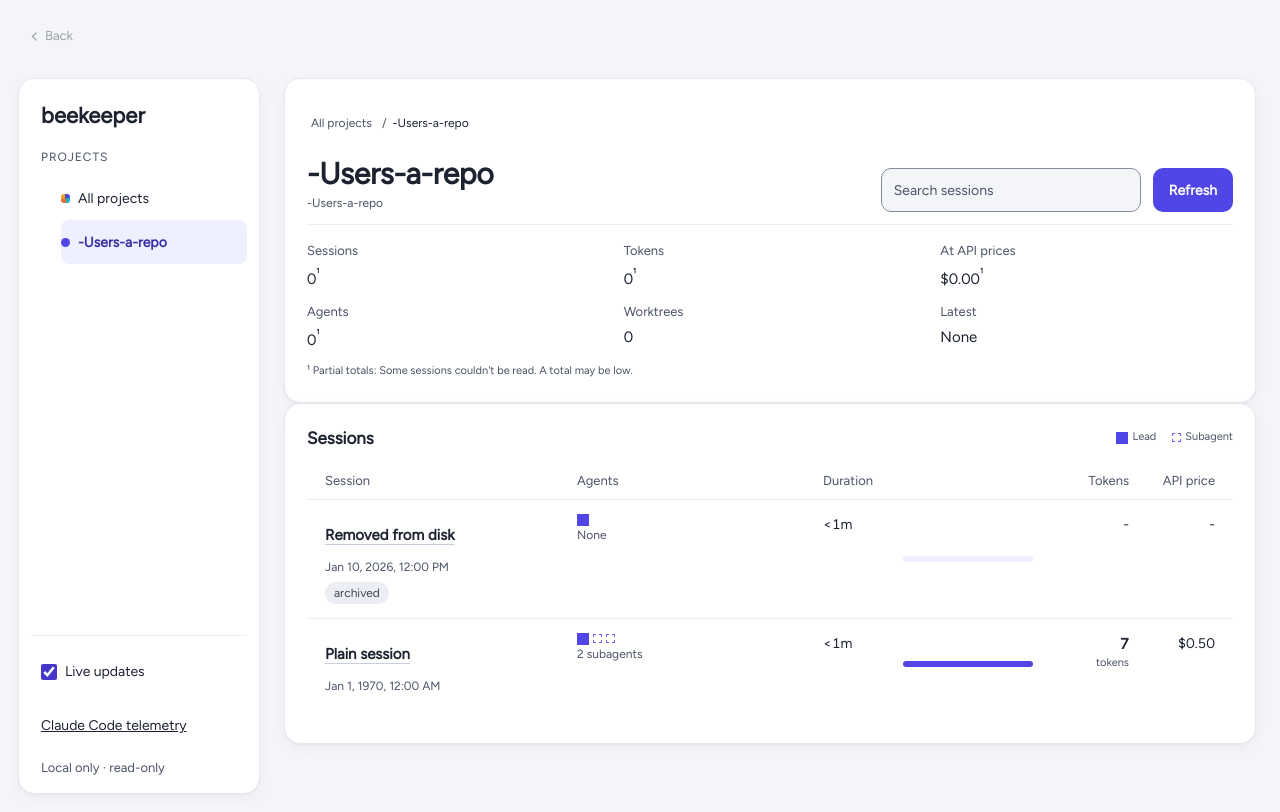
session cards: archived note › finds an archived session by its title in a search
This screenshot has width=1280, height=812.
Type "removed" into the search field labelled "Search sessions".
click(1011, 190); type("removed")  # box [881,168,1141,212]
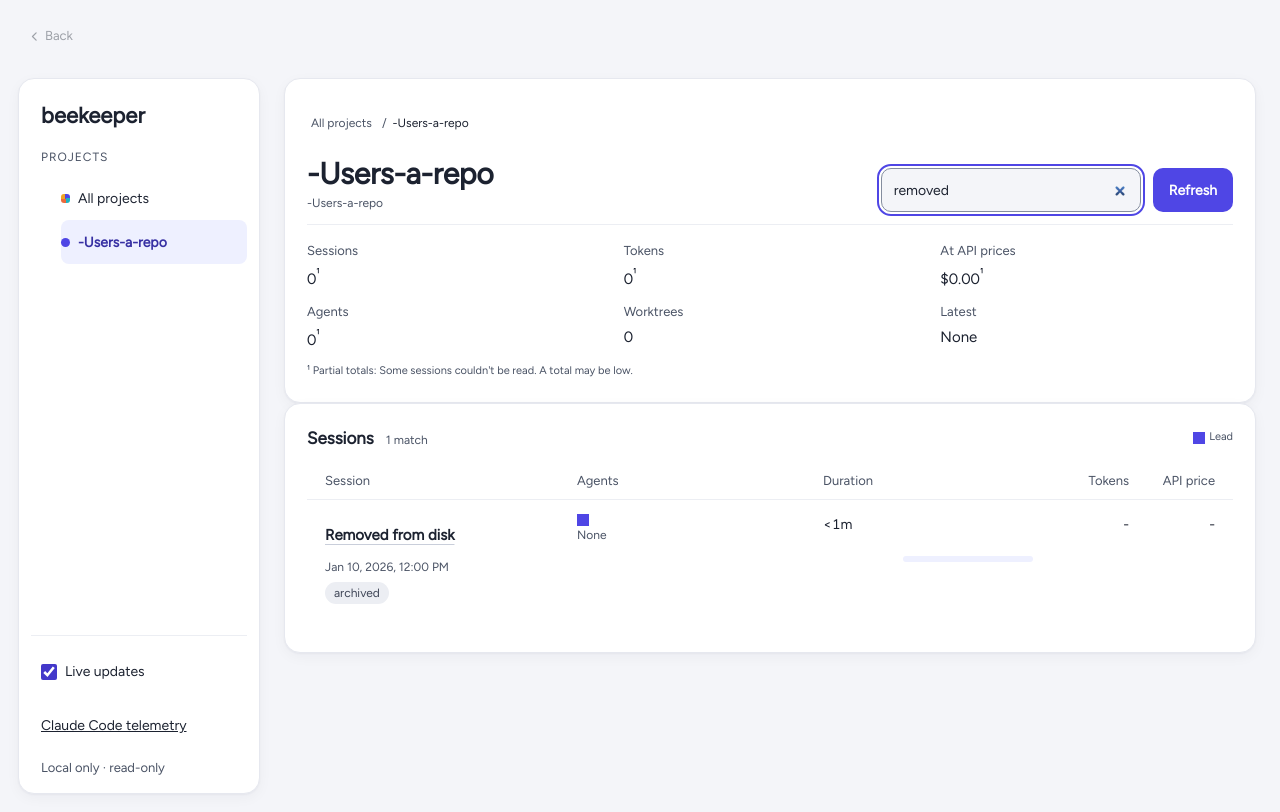
Check: the heading "Removed from disk" is shown, box [325,514,454,558]
Check: the button "Plain session" is gone
